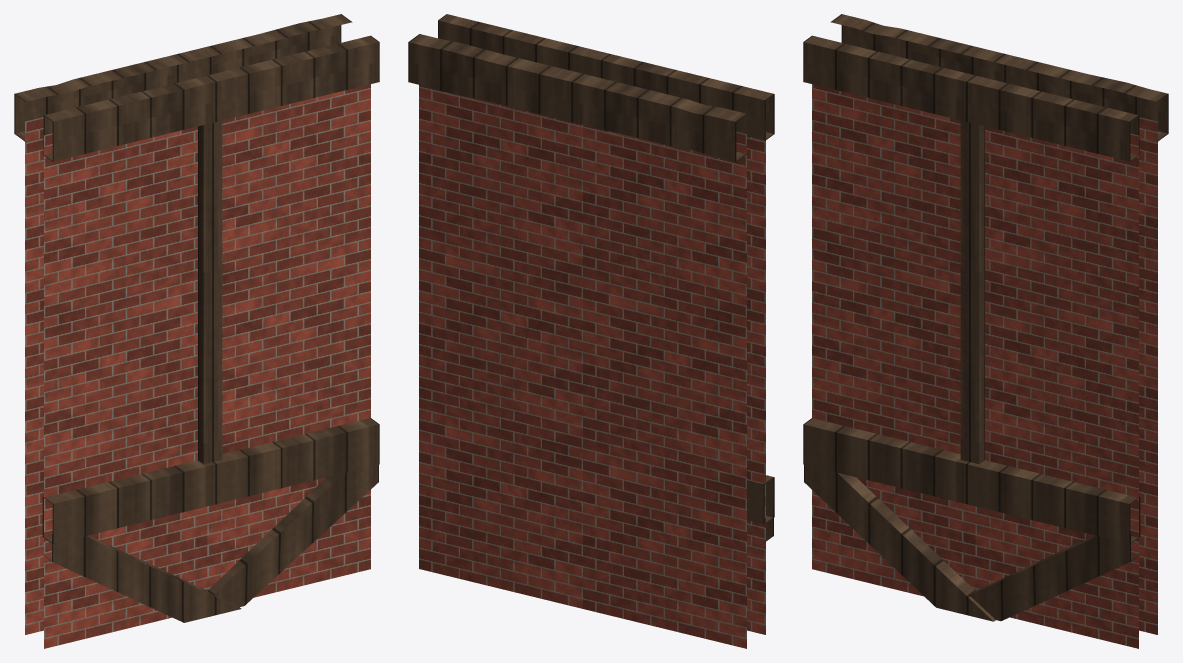
The model's file is Wall_RedBrick_Straight_LOD2.gltf.
3 renders of one model, left to right at view 1: azimuth 30°, elevation 25°; view 2: azimuth 150°, elevation 25°; view 3: azimuth 330°, elevation 25°, orthographic.
Parts seen in each view (by area): view 1: Wall_RedBrick_Straight_LOD2; view 2: Wall_RedBrick_Straight_LOD2; view 3: Wall_RedBrick_Straight_LOD2.
Part boxes in pixels (x1,y1,x2,y2): Wall_RedBrick_Straight_LOD2: (14, 14, 379, 648); Wall_RedBrick_Straight_LOD2: (408, 14, 774, 648); Wall_RedBrick_Straight_LOD2: (803, 14, 1168, 648).
Size of the model in its own units: 2 by 3.12 by 0.406.
Materials: 2 (2 with a texture image).
